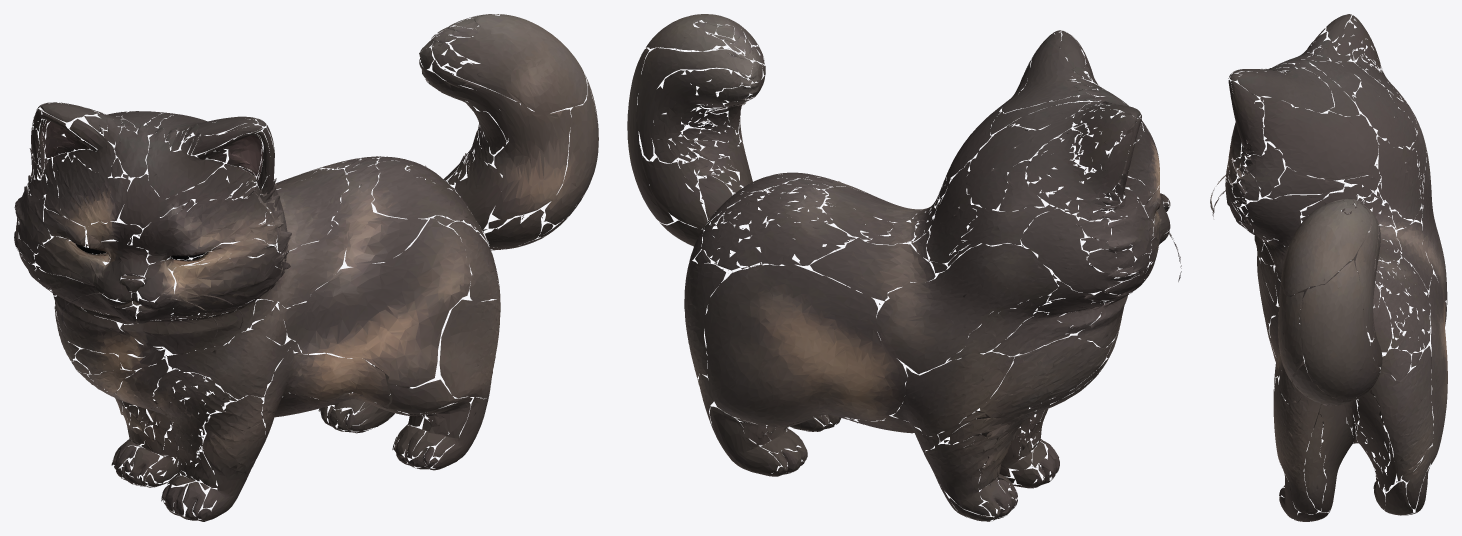
The model's file is tortie.glb.
3 views of the same model, side by side, from view 1: azimuth 30°, elevation 25°; view 2: azimuth 150°, elevation 25°; view 3: azimuth 270°, elevation 25° (orthographic). The views are drawn at different scales.
Visible parts, largest first — view 1: tortie; view 2: tortie; view 3: tortie.
Boxes of the visible parts, box(x1,y1,x2,y2) form: tortie: box(14, 14, 598, 521); tortie: box(627, 14, 1181, 521); tortie: box(1210, 14, 1447, 521).
Bounding box in the file's own units: 1.35 × 1 × 0.6112.
Materials: 1 (1 with a texture image).
